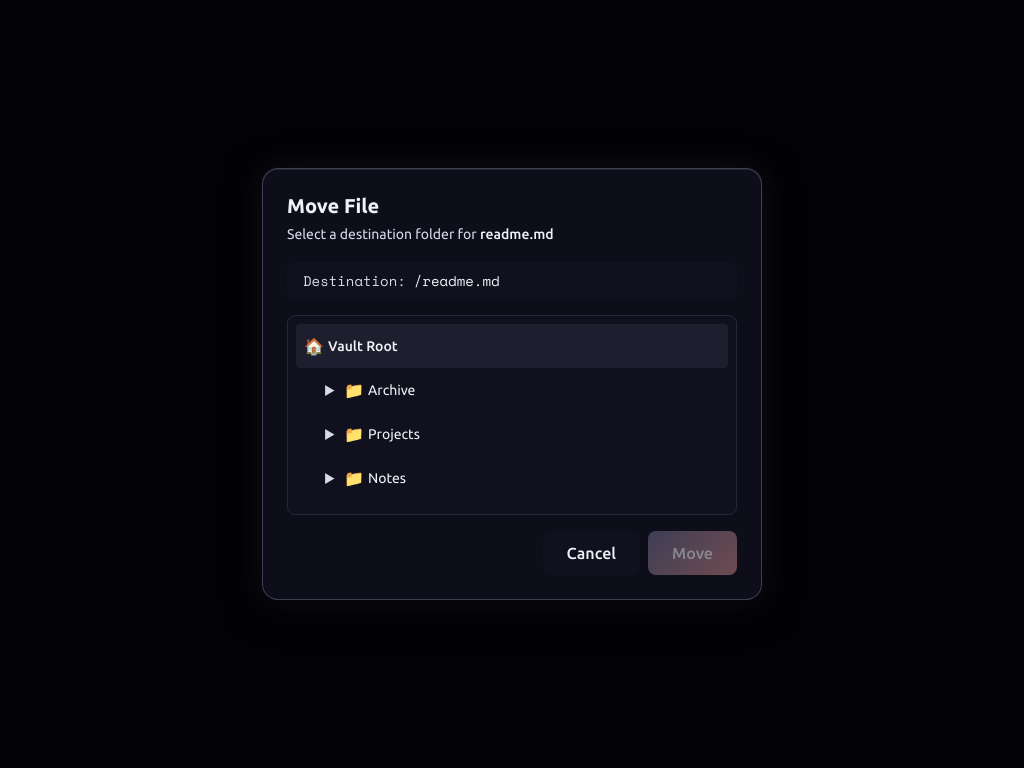
Scenario: MoveDialog › path display › shows destination path when directory is selected
// Click on Archive directory
What coordinates should you click on to do the following:
click the text "Archive"
I would click on:
 (392, 390)
Its box is x1=368 y1=382 x2=415 y2=398.
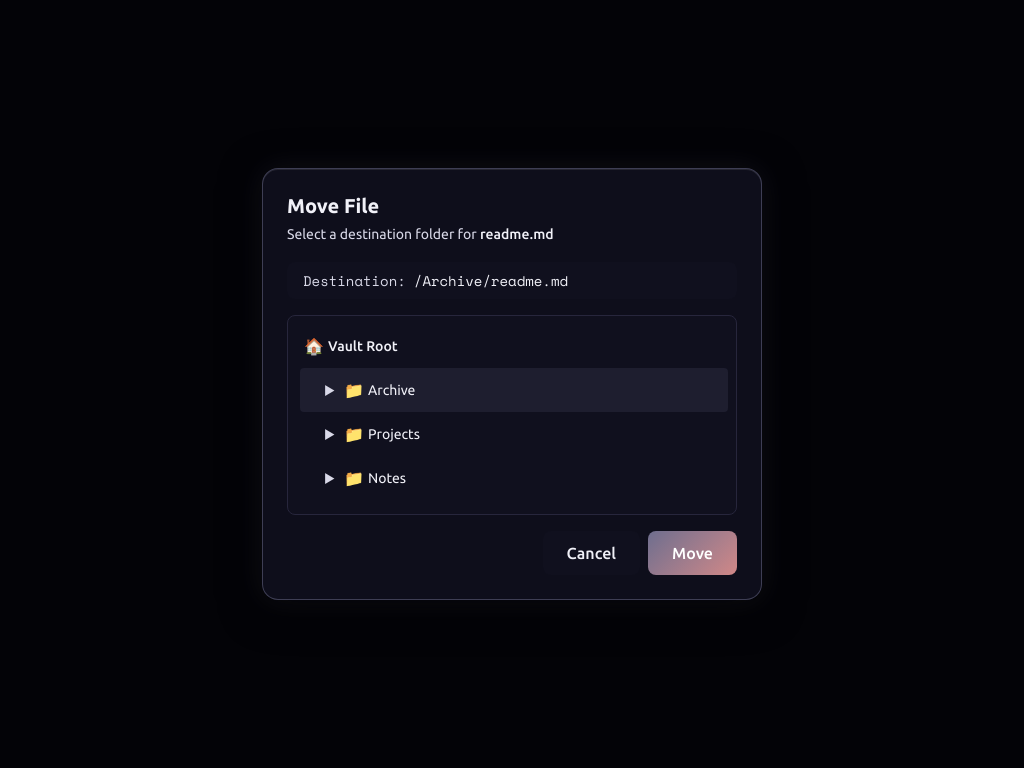
Expected: the text "/Archive/readme.md" is shown, x1=414 y1=270 x2=568 y2=291
